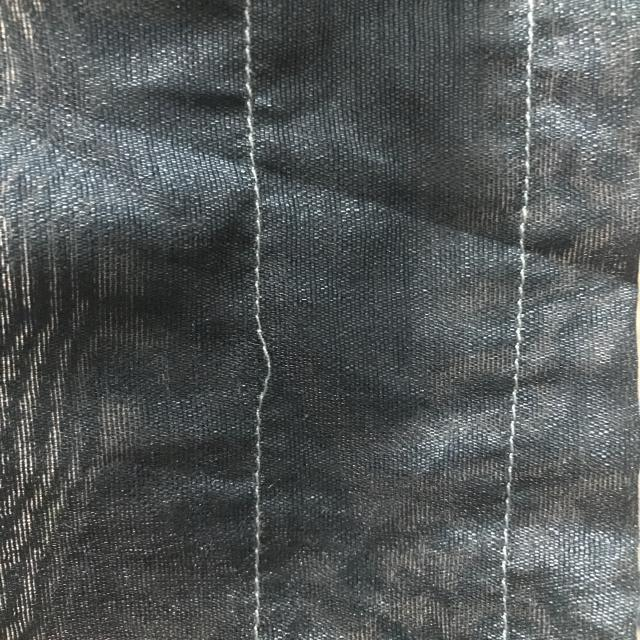good: (233, 170, 278, 271)
skip: (214, 310, 295, 416)
